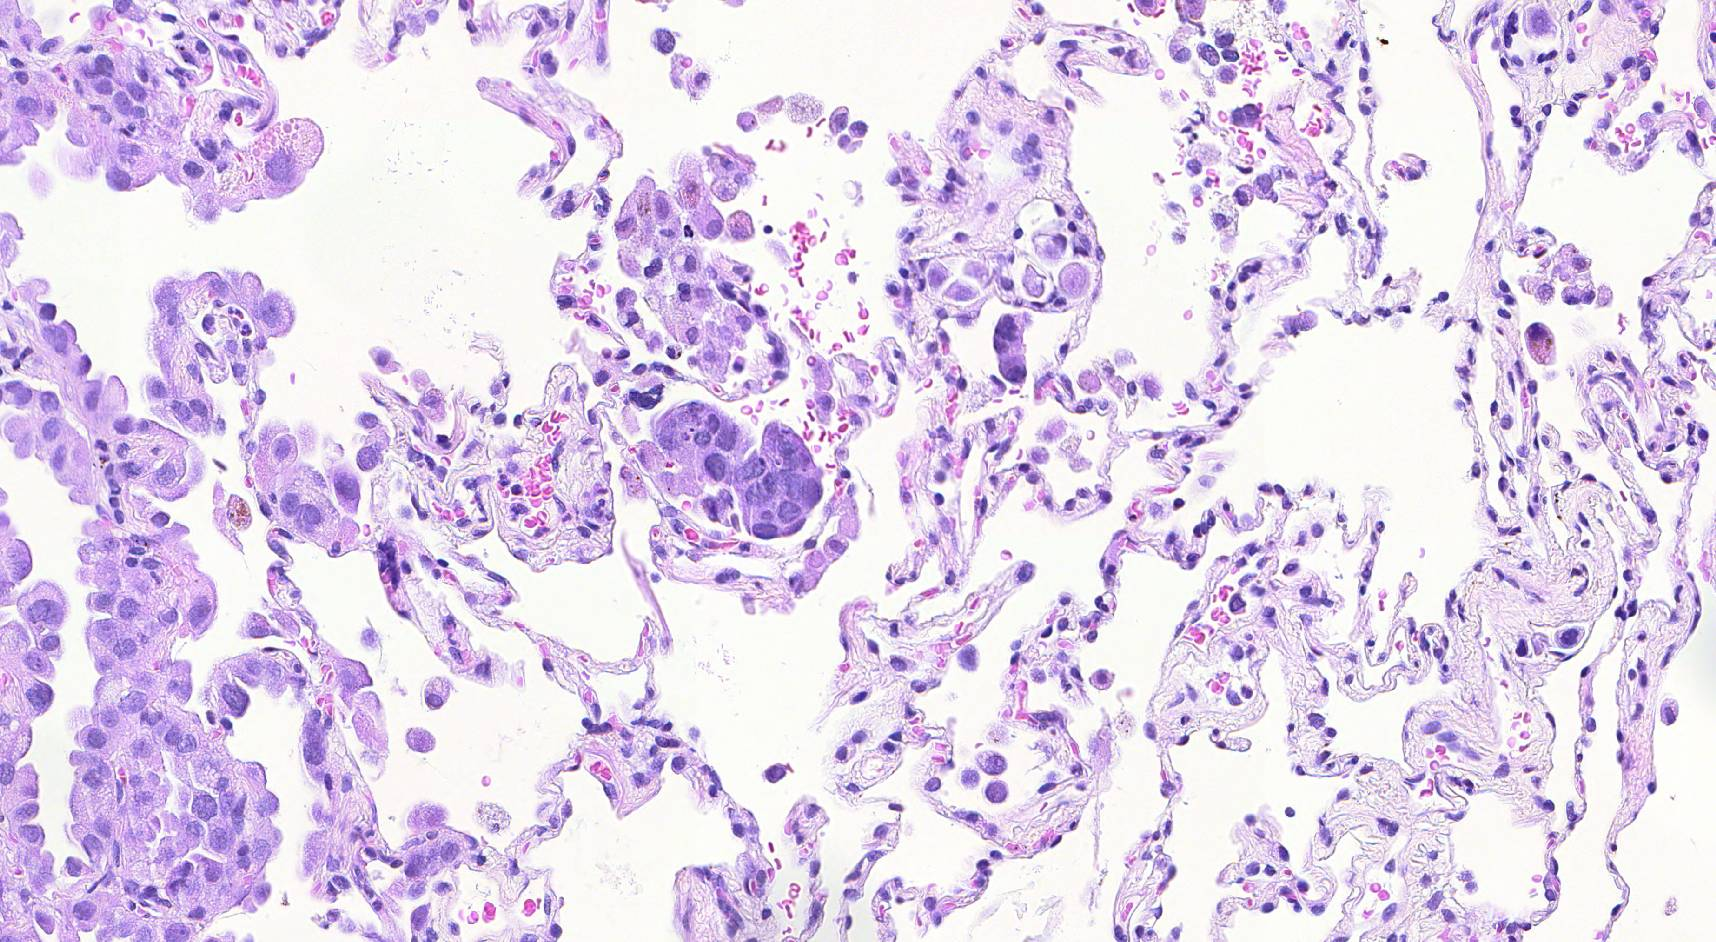stas: (642, 394, 828, 546), (984, 311, 1044, 389)
